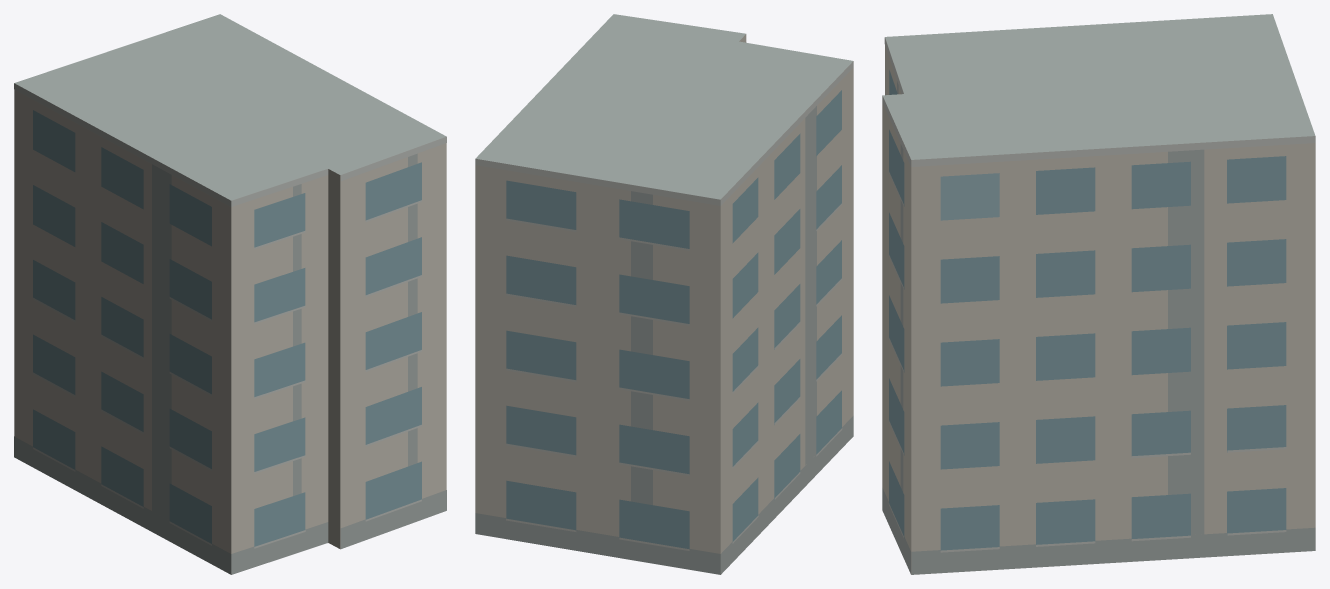
The model's file is survey-upis-32707565.glb.
3 renders of one model, left to right at view 1: azimuth 30°, elevation 25°; view 2: azimuth 150°, elevation 25°; view 3: azimuth 270°, elevation 25°, orthographic. The views are drawn at different scales.
Visible parts, largest first — view 1: survey-upis-32707565.tmp; view 2: survey-upis-32707565.tmp; view 3: survey-upis-32707565.tmp.
Boxes of the visible parts, x1,y1,x2,y2 form: survey-upis-32707565.tmp: [14, 14, 446, 574]; survey-upis-32707565.tmp: [475, 14, 853, 574]; survey-upis-32707565.tmp: [882, 14, 1315, 574].
Bounding box in the file's own units: 10.87 × 14.4 × 13.63.
